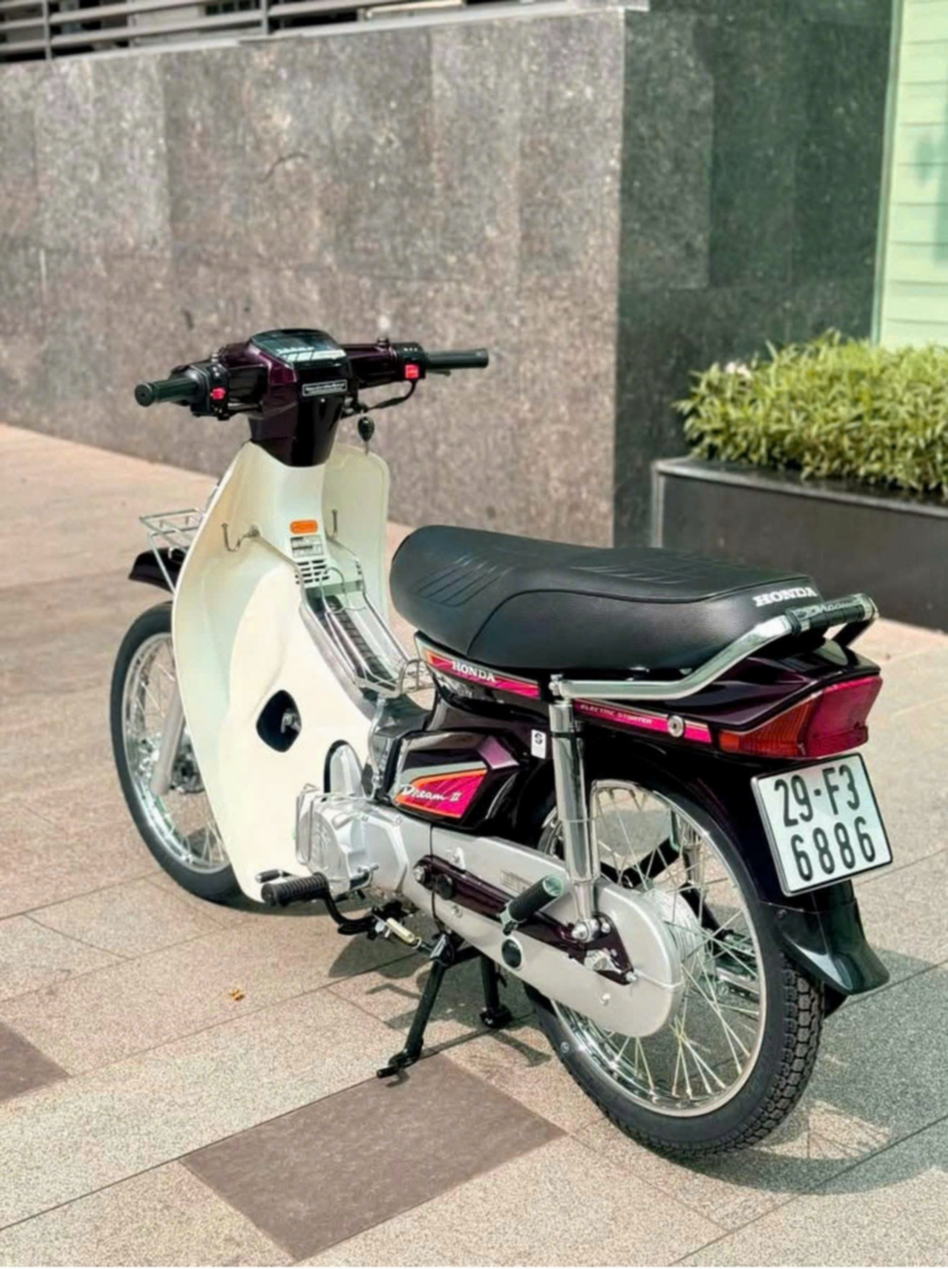Bien-so: (756, 710, 909, 857)
